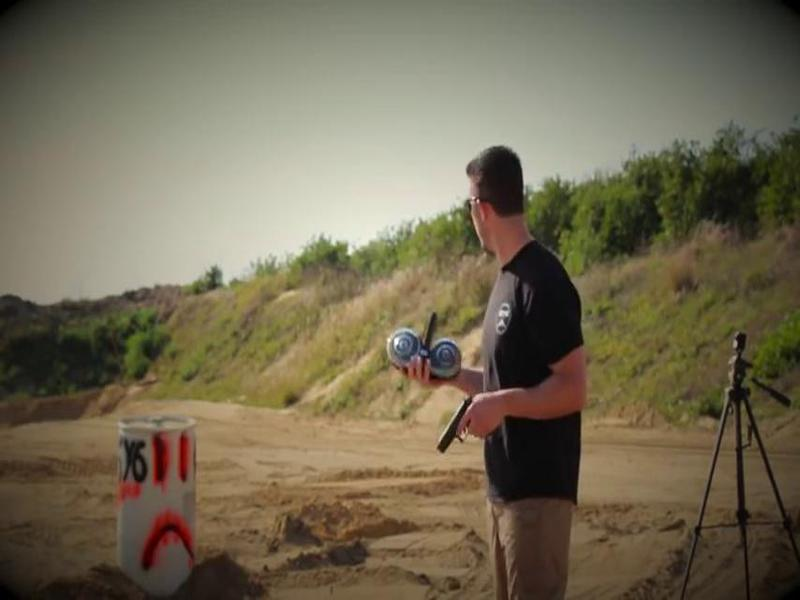Pistola: (432, 394, 504, 466)
